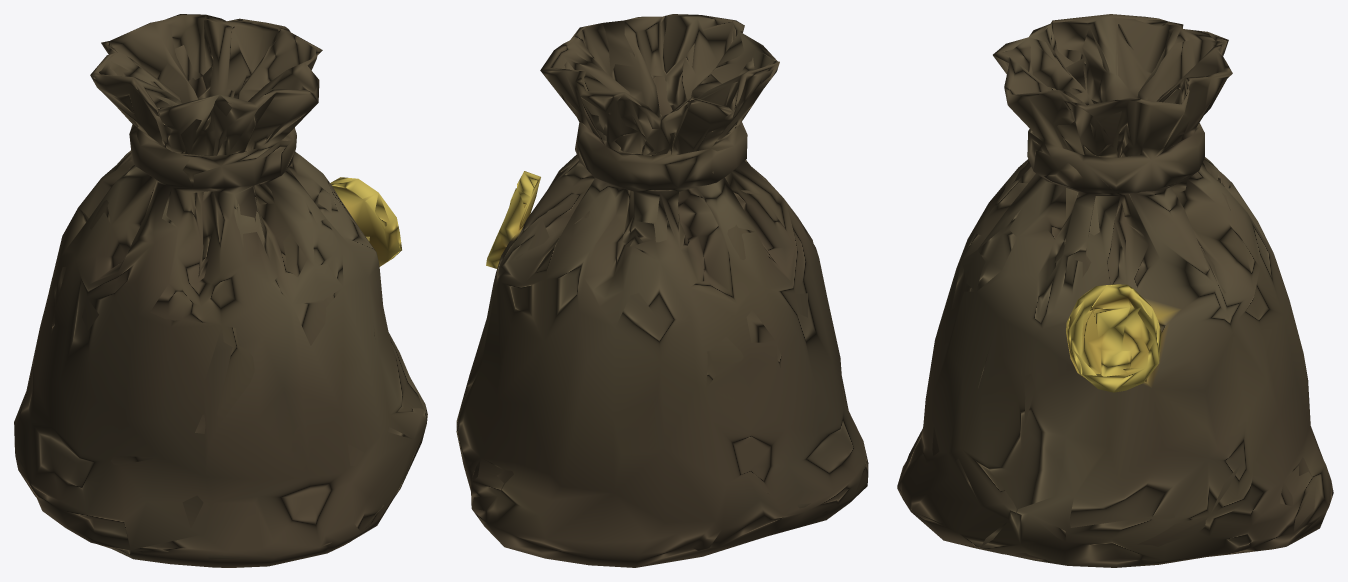
Rendered from gen3d-loot-sack-lod0.glb.
3 renders of one model, left to right at view 1: azimuth 30°, elevation 25°; view 2: azimuth 150°, elevation 25°; view 3: azimuth 270°, elevation 25°, orthographic. The views are drawn at different scales.
Visible parts, largest first — view 1: part_0; view 2: part_0; view 3: part_0.
Part boxes in pixels (<box>): part_0: <box>14,14,427,567</box>; part_0: <box>456,14,868,567</box>; part_0: <box>897,14,1333,567</box>.
Size of the model in its own units: 0.8468 by 0.999 by 0.8773.
